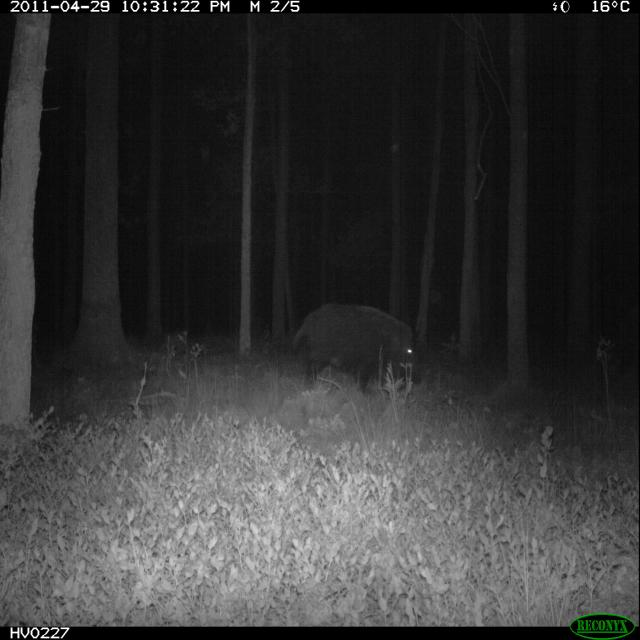boar: (281, 268, 427, 421)
